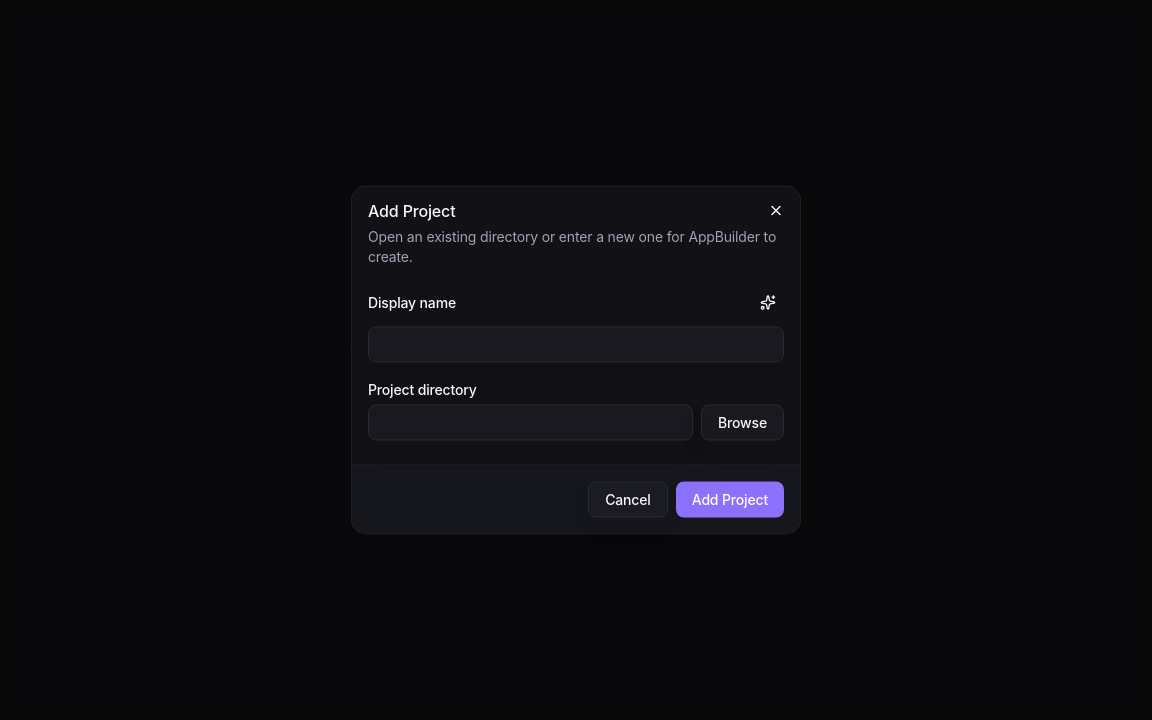
Scenario: autofills a new project idea and default path without submitting it
This screenshot has width=1152, height=720.
Step 1. Click the button named "Surprise me with an app idea" → click(768, 302), box 752,286 -> 784,318
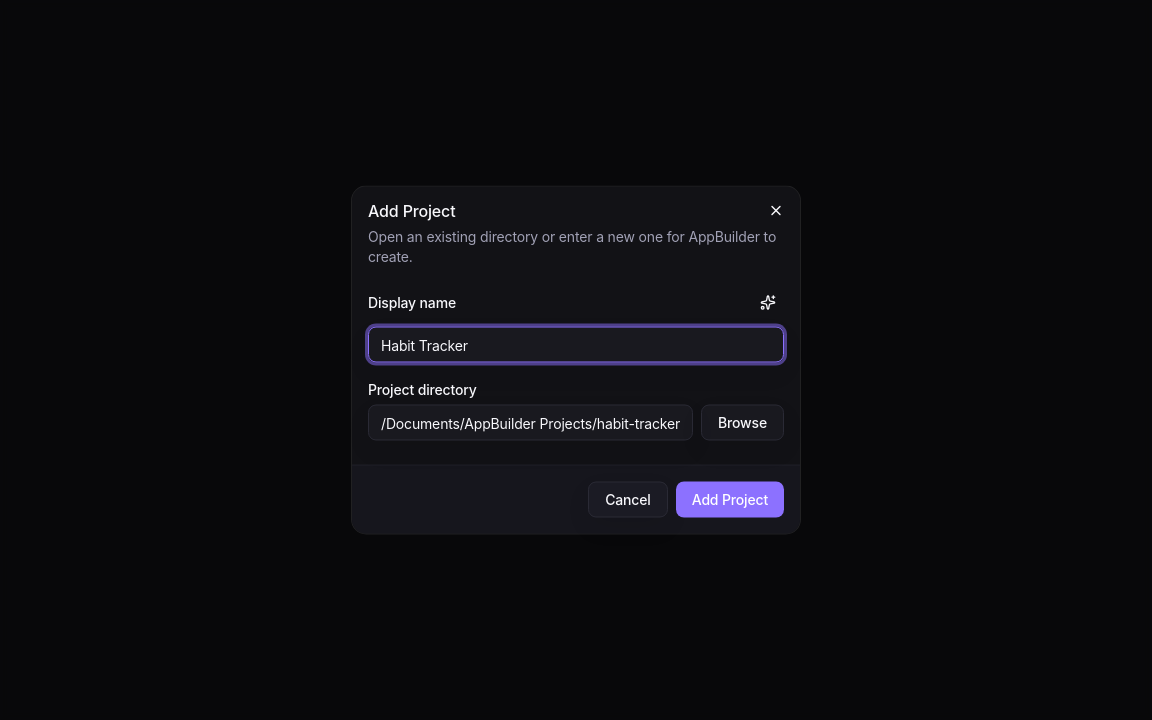
Expected: the field labelled "Display name" holds "Habit Tracker", 368,326 -> 784,362
Expected: the field labelled "Project directory" holds "/Documents/AppBuilder Projects/habit-tracker", 368,404 -> 693,440
